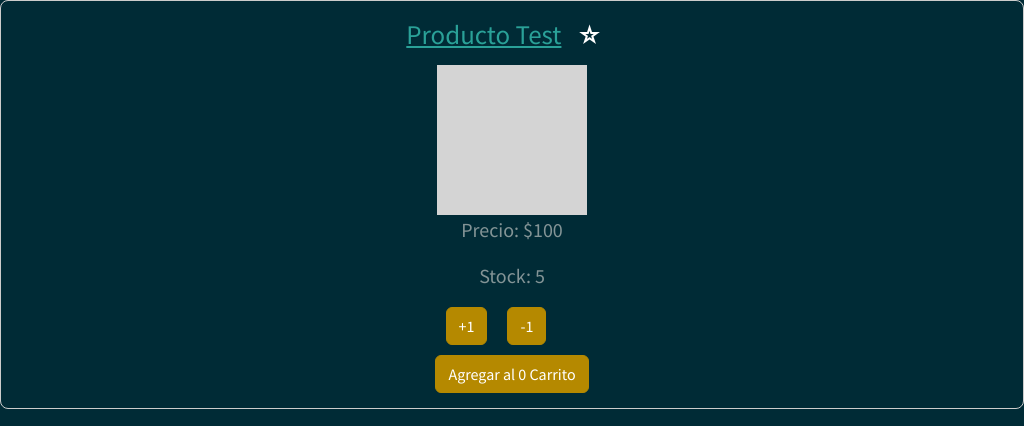
it: Item › should increment quantity when +1 button is clicked
Click the button "+1".
click(467, 326)  # box [446,307,488,345]
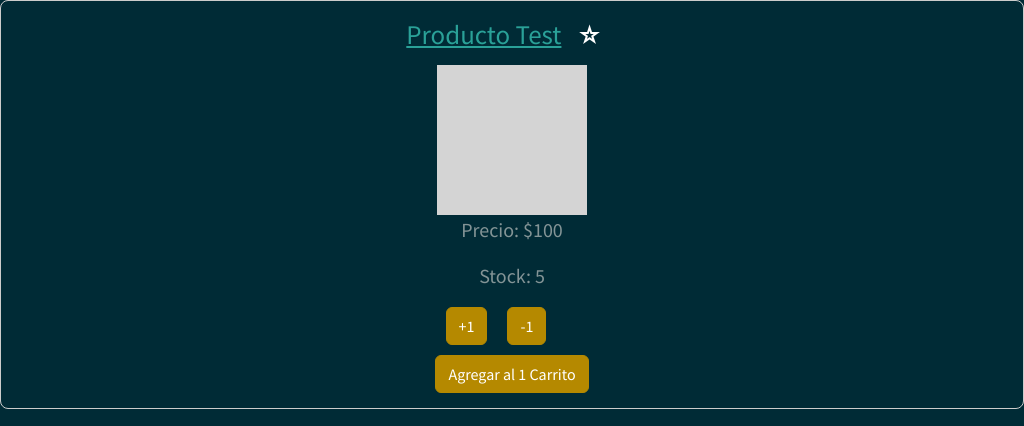
Expected: the button "Agregar al 1 Carrito" is shown, [435,355,589,393]
